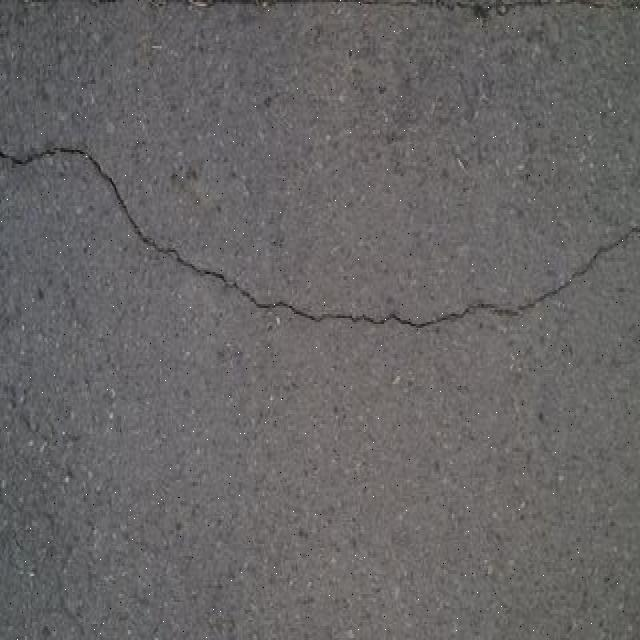crack: (0, 137, 639, 331), (6, 1, 639, 188), (77, 148, 286, 310), (9, 142, 172, 256), (112, 0, 636, 16), (6, 140, 92, 170)
